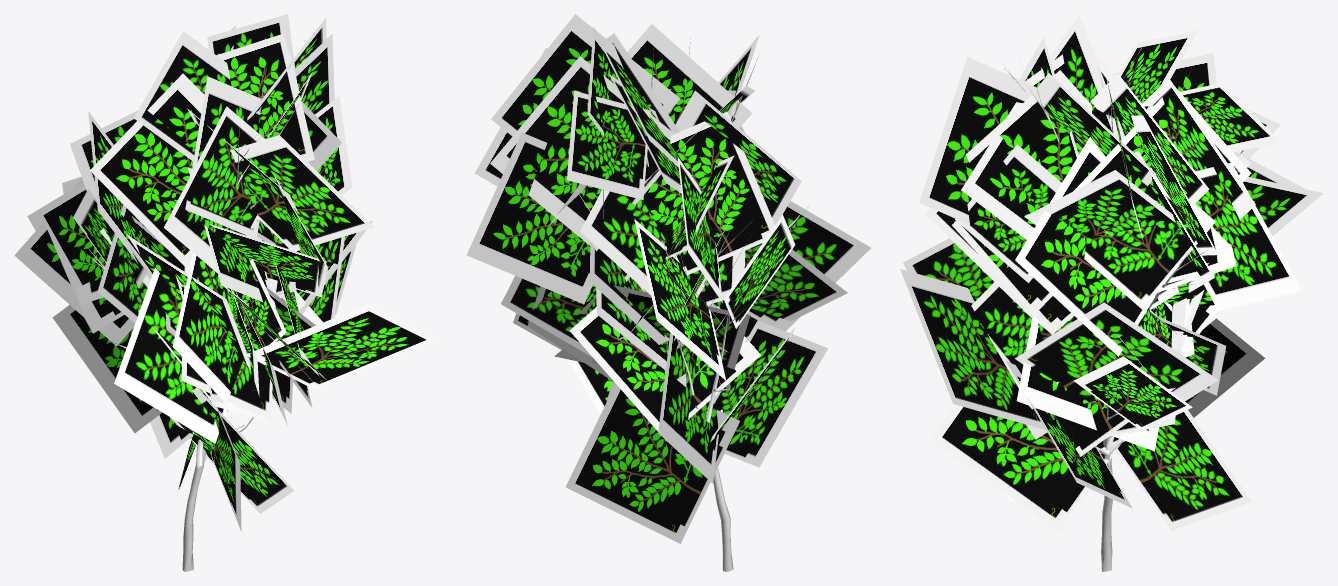
The model's file is tree_d.fbx.
3 views of the same model, side by side, from view 1: azimuth 30°, elevation 25°; view 2: azimuth 150°, elevation 25°; view 3: azimuth 270°, elevation 25° (orthographic). The views are drawn at different scales.
Parts seen in each view (by area): view 1: tree_d; view 2: tree_d; view 3: tree_d.
Part boxes in pixels (x1,y1,x2,y2): tree_d: (14, 14, 436, 571); tree_d: (466, 14, 870, 571); tree_d: (900, 14, 1323, 571).
Size of the model in its own units: 23.53 by 38.36 by 25.52.
2 materials, 1 textured.
